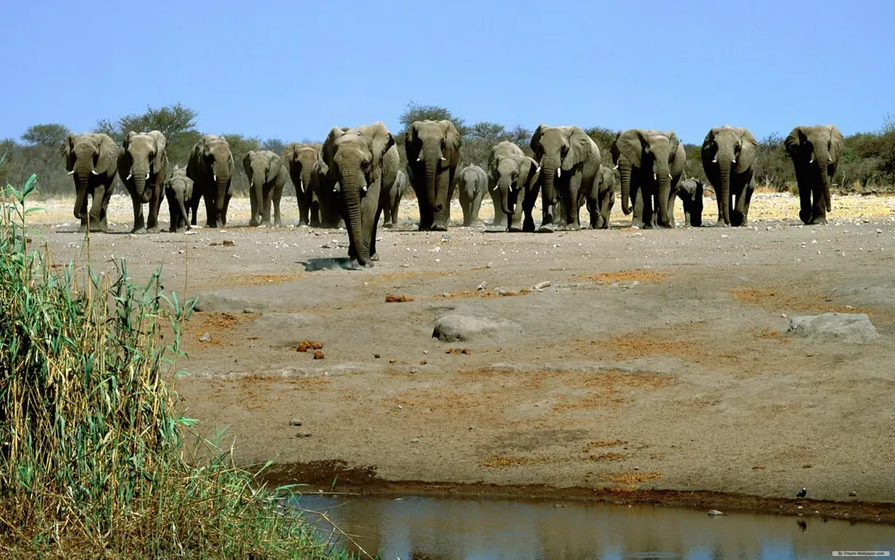elephantidae: (324, 128, 389, 265), (530, 124, 601, 231), (701, 124, 767, 226), (784, 122, 844, 227), (624, 123, 683, 229), (61, 133, 120, 233), (406, 119, 453, 230), (191, 133, 236, 230), (124, 134, 164, 232), (244, 150, 289, 227), (495, 153, 526, 230), (460, 164, 487, 224), (169, 174, 194, 231)
